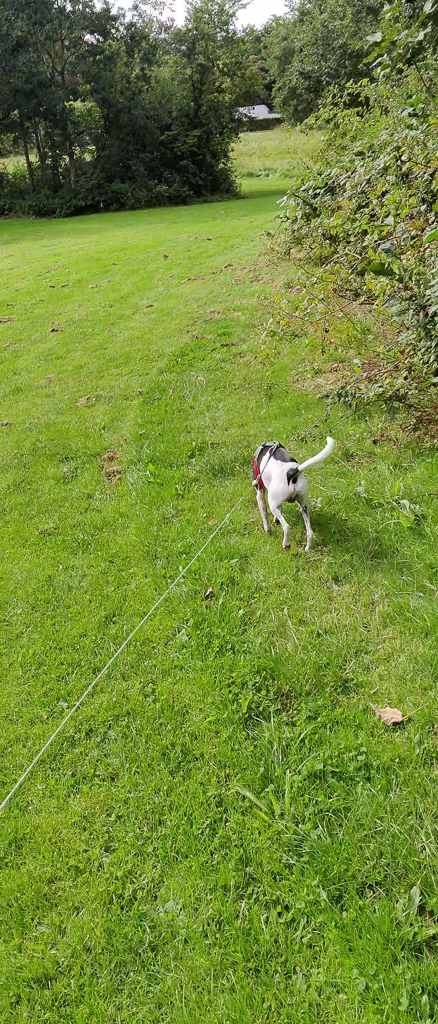Dog: (232, 427, 348, 563)
